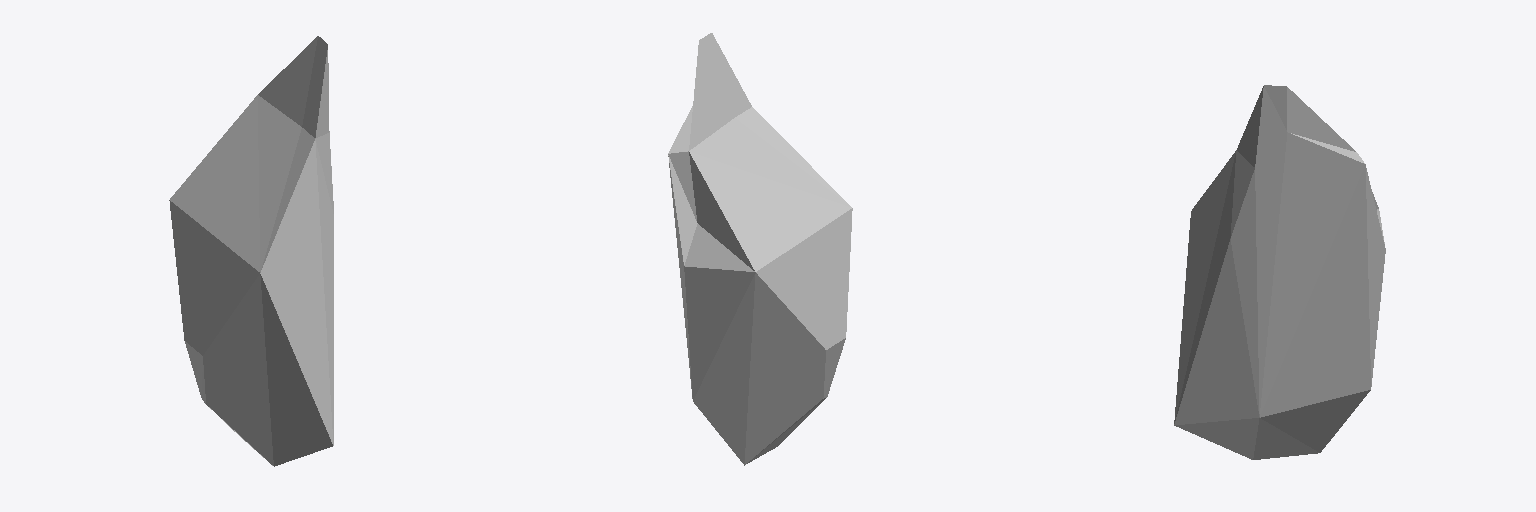
The model's file is mini2.obj.
3 views of the same model, side by side, from view 1: azimuth 30°, elevation 25°; view 2: azimuth 150°, elevation 25°; view 3: azimuth 270°, elevation 25° (orthographic).
Visible parts, largest first — view 1: mini2; view 2: mini2; view 3: mini2.
Boxes of the visible parts, box(x1,y1,x2,y2) form: mini2: box(169, 36, 333, 466); mini2: box(668, 33, 852, 465); mini2: box(1174, 85, 1385, 459).
Bounding box in the file's own units: 3.94 × 11.59 × 5.5.